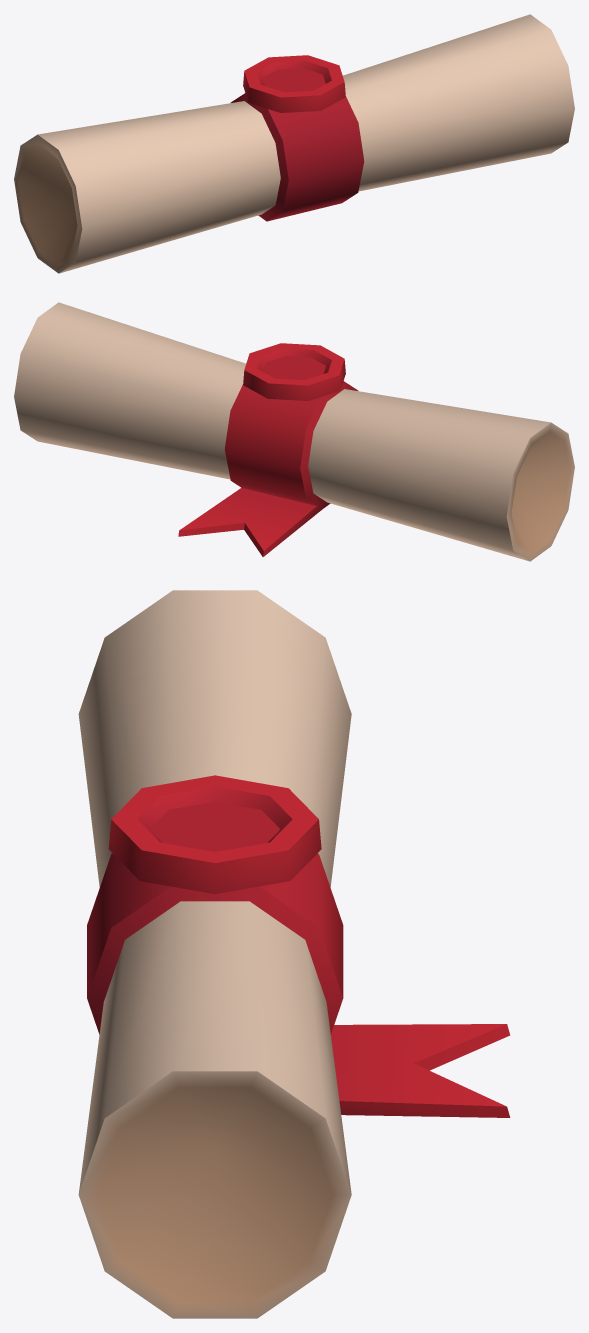
Rendered from PaperScroll6.fbx.
3 renders of one model, top to bottom at view 1: azimuth 30°, elevation 25°; view 2: azimuth 150°, elevation 25°; view 3: azimuth 270°, elevation 25°, orthographic. The views are drawn at different scales.
Parts seen in each view (by area): view 1: PaperScroll6; view 2: PaperScroll6; view 3: PaperScroll6.
Part boxes in pixels (bbox=[...]): PaperScroll6: bbox=[14, 14, 574, 273]; PaperScroll6: bbox=[14, 302, 574, 561]; PaperScroll6: bbox=[78, 590, 510, 1318].
Bounding box in the file's own units: 25 × 6.28 × 9.49.
